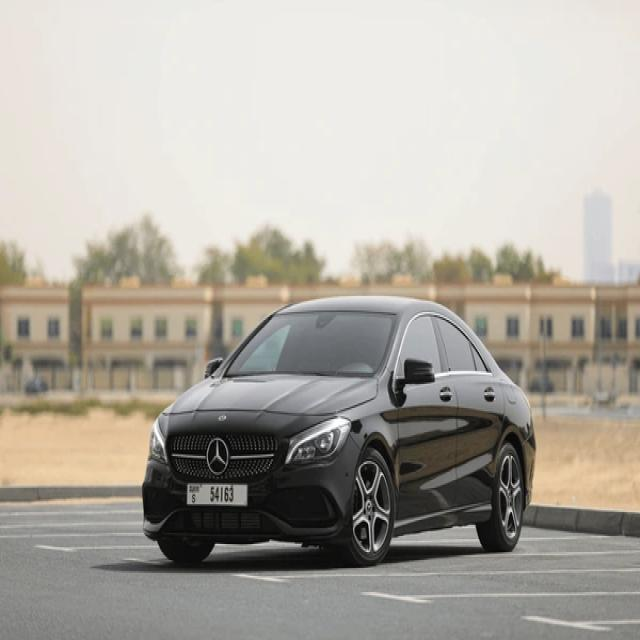mercedes: (206, 435, 230, 475)
